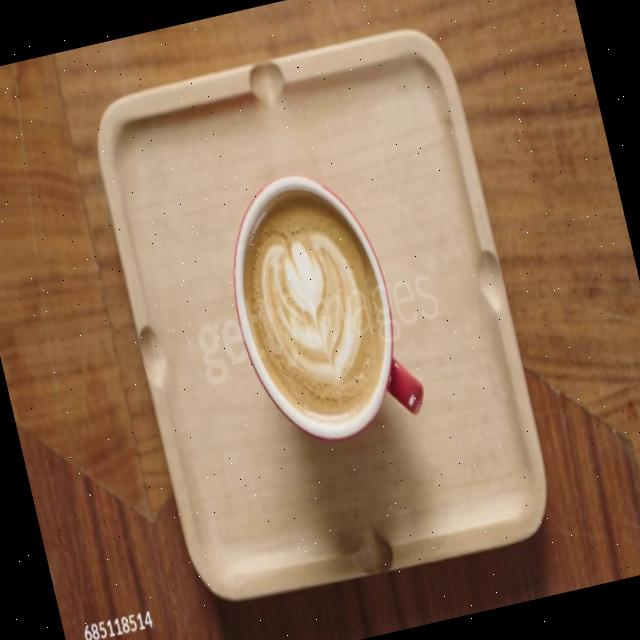cup: (208, 155, 432, 458)
tray: (84, 19, 562, 612)
